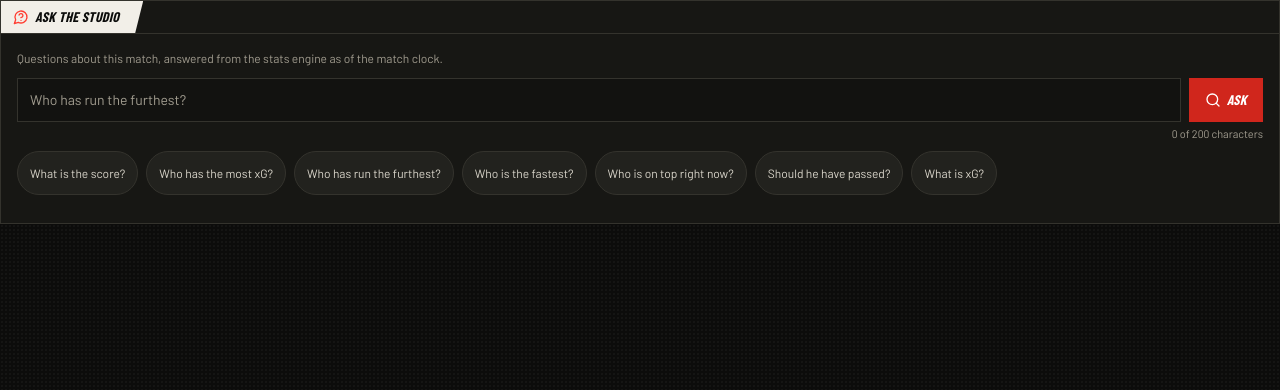
AskStudio › sends a chip by id and shows the answer with its evidence and as-of clock
Click the button "Who has the most xG?".
click(216, 172)  # box x1=146 y1=150 x2=286 y2=194
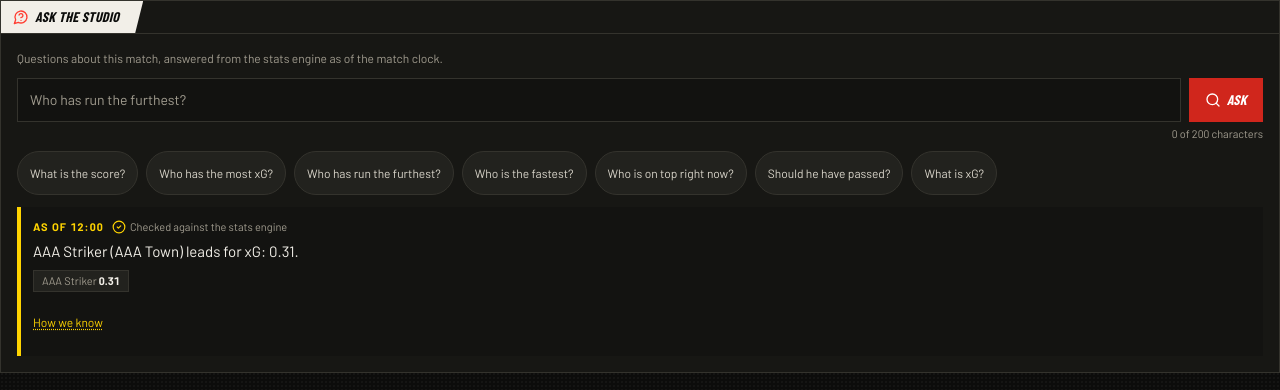
Expected: the element with test id "ask-answer" shows "leads for xG", x1=33 y1=242 x2=299 y2=260
Expected: the element with test id "ask-answer" shows "12:00", x1=33 y1=220 x2=104 y2=232
Expected: the list named "Numbers behind this answer" shows "0.31", x1=99 y1=274 x2=120 y2=287
